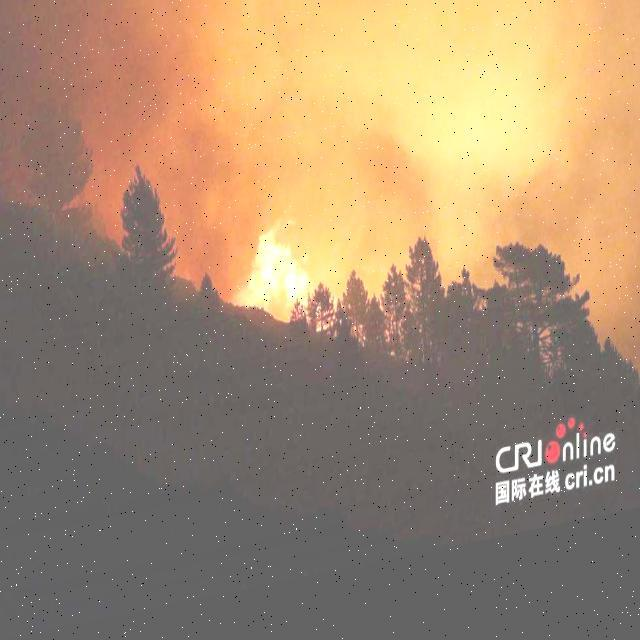Fire: (243, 230, 311, 340)
